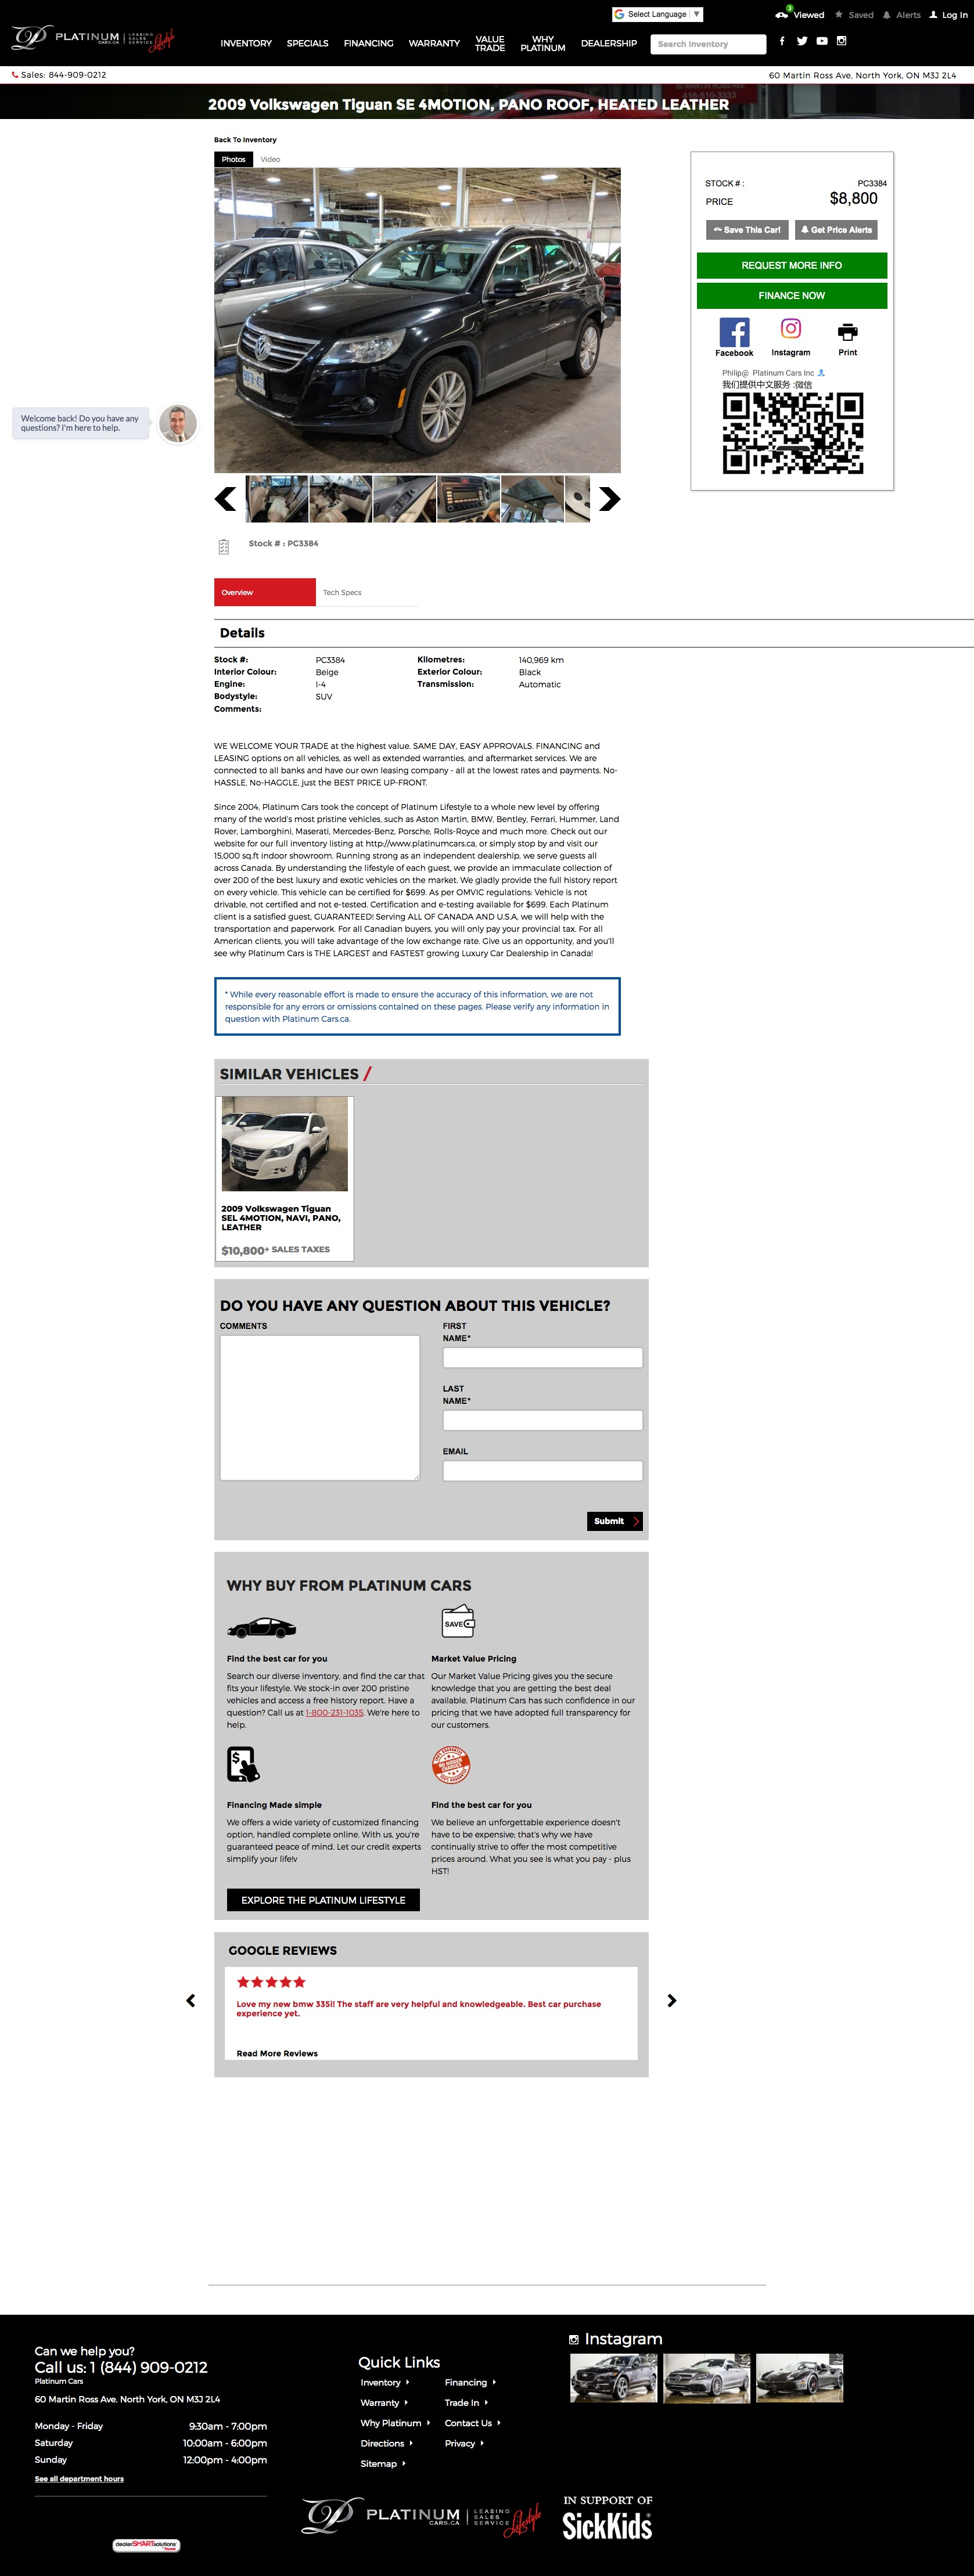car: (600, 486, 623, 514)
